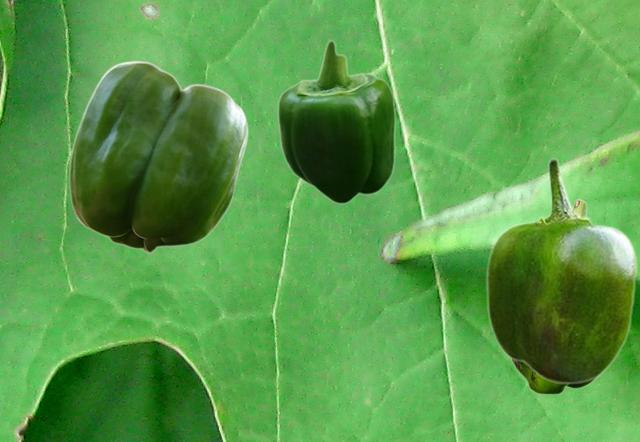bell_pepper: (485, 157, 637, 384), (68, 60, 247, 252), (276, 39, 395, 204), (510, 198, 595, 394)
